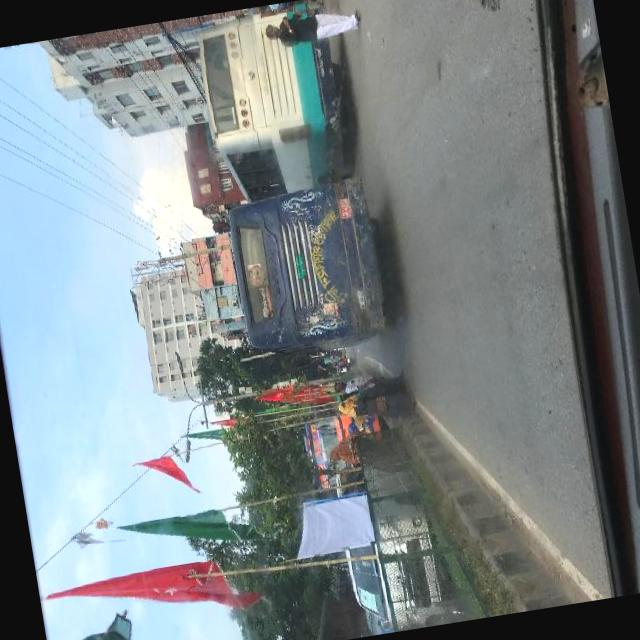bus: (222, 168, 402, 360), (191, 0, 356, 193)
motorcycle: (332, 353, 356, 368)
truck: (341, 506, 454, 630)
